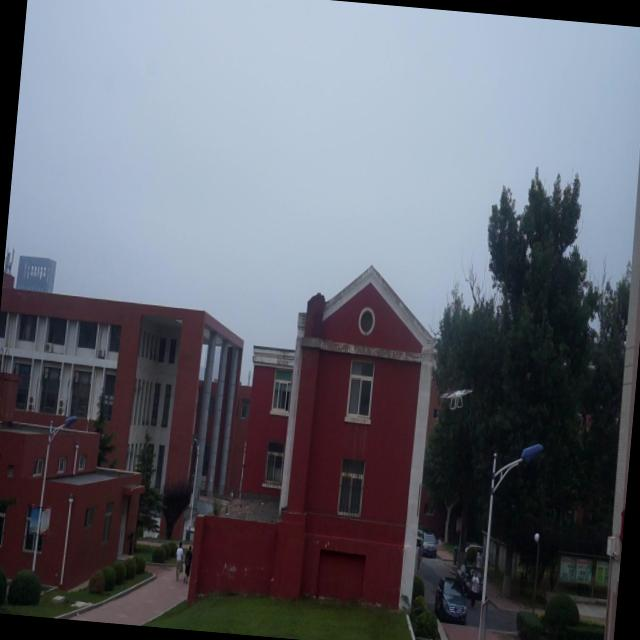drone: (437, 382, 474, 416)
